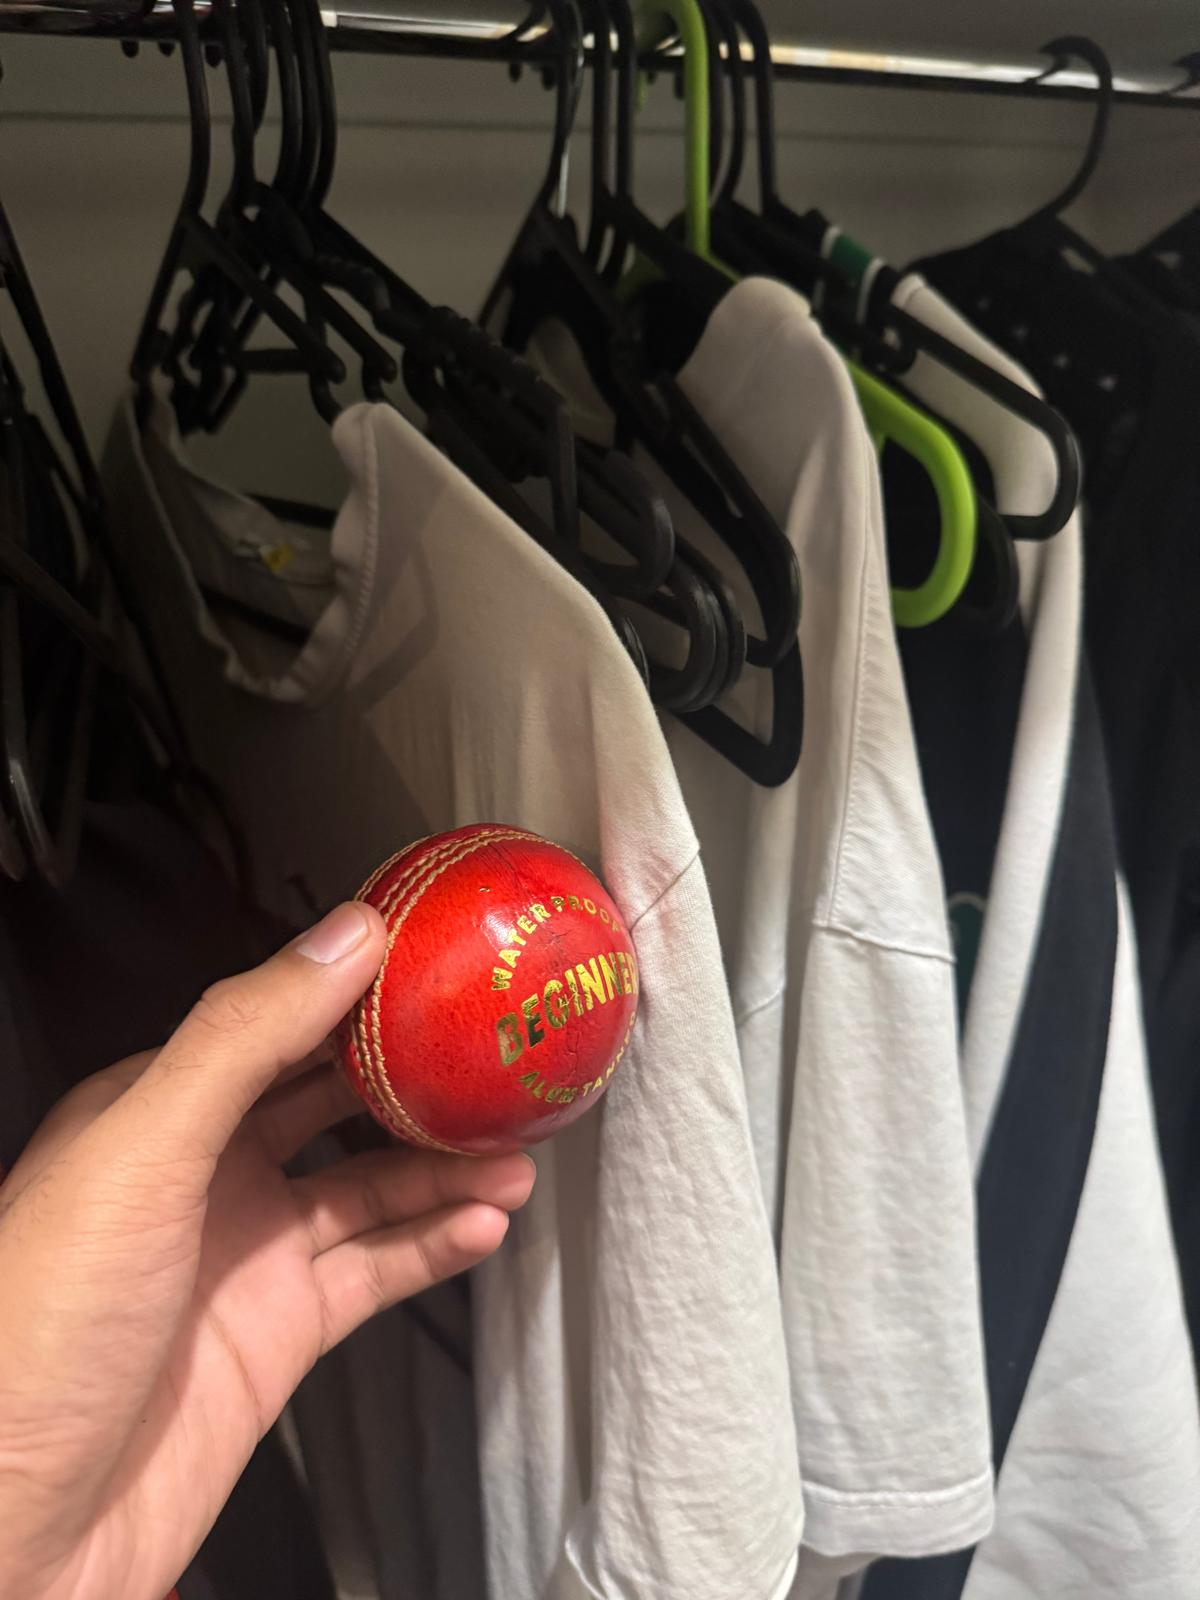Red_Ball: (336, 806, 636, 1162)
